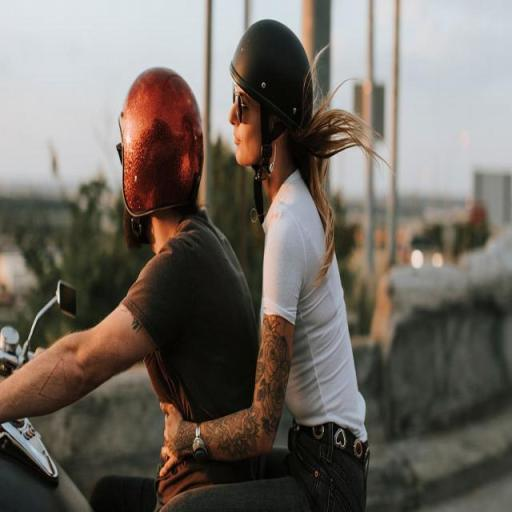Helmet: (116, 61, 198, 221), (229, 22, 317, 128)
